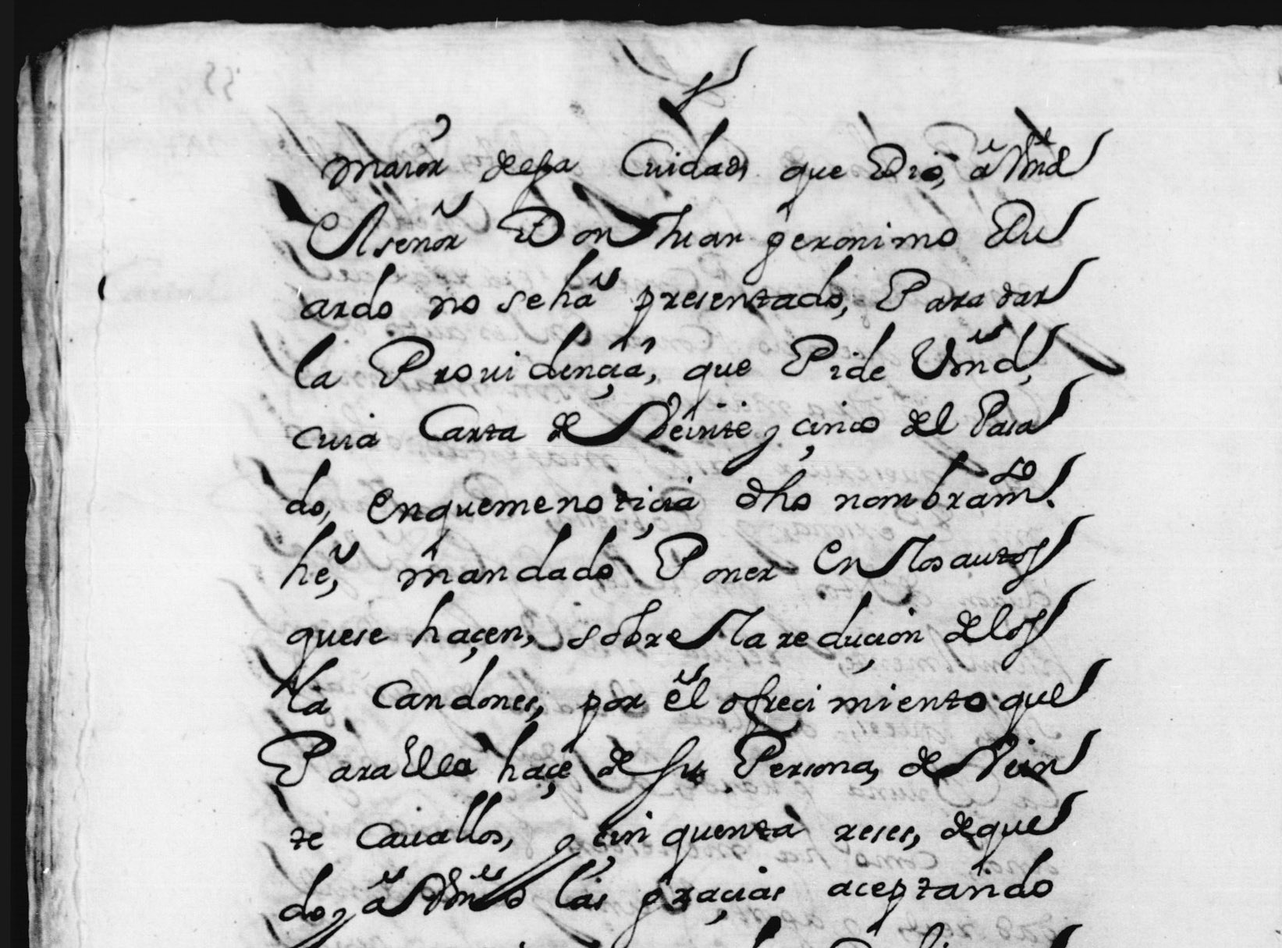lacandon: (287, 654, 538, 715)
